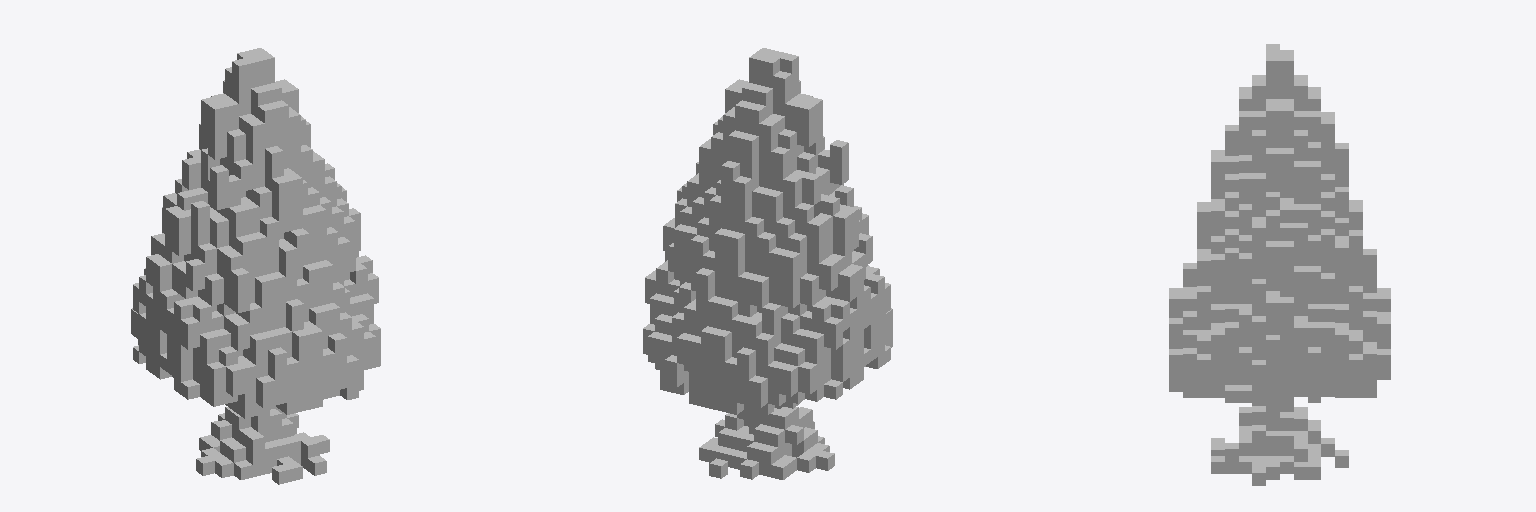
The model's file is tree_1.obj.
3 renders of one model, left to right at view 1: azimuth 30°, elevation 25°; view 2: azimuth 150°, elevation 25°; view 3: azimuth 270°, elevation 25°, orthographic.
Parts seen in each view (by area): view 1: object 1; view 2: object 1; view 3: object 1.
Boxes of the visible parts, <box> form: object 1: <box>131,48,380,484</box>; object 1: <box>643,48,892,479</box>; object 1: <box>1169,44,1390,485</box>.
Bounding box in the file's own units: 1.6 × 3.2 × 1.6.